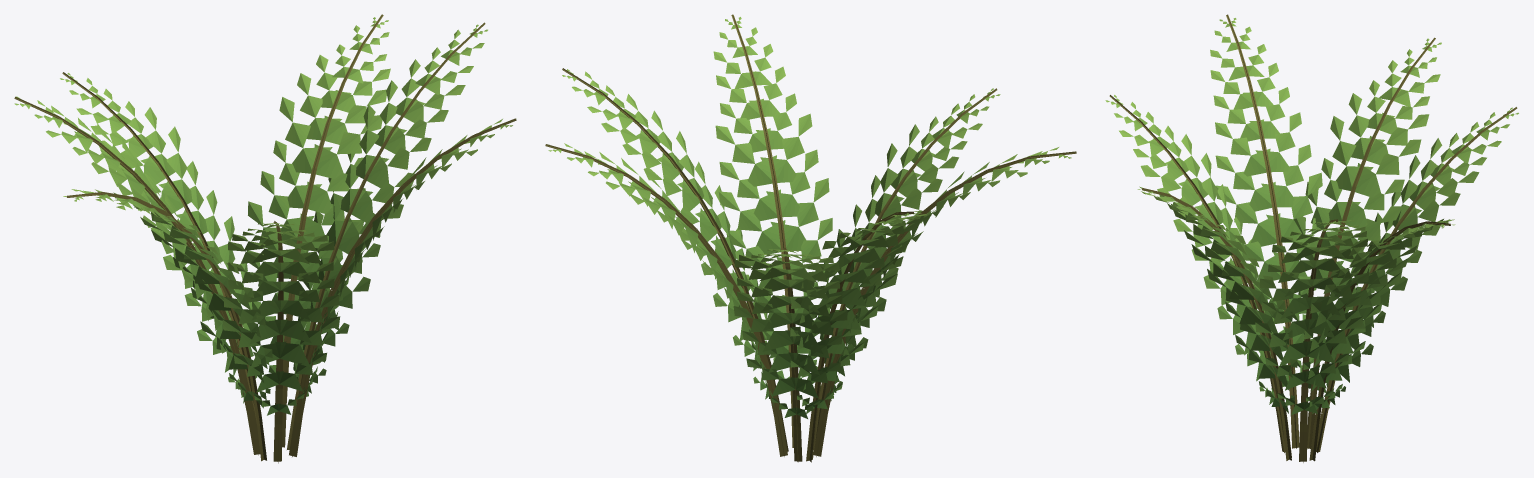
The model's file is fern_lady.glb.
The picture shows the model from 3 angles, left to right: view 1: azimuth 30°, elevation 25°; view 2: azimuth 150°, elevation 25°; view 3: azimuth 270°, elevation 25°; orthographic projection. The views are drawn at different scales.
Parts seen in each view (by area): view 1: fern_lady; view 2: fern_lady; view 3: fern_lady.
Part boxes in pixels (bbox=[...]): fern_lady: bbox=[14, 14, 516, 463]; fern_lady: bbox=[545, 14, 1076, 462]; fern_lady: bbox=[1105, 14, 1518, 462].
Size of the model in its own units: 0.7808 by 0.5663 by 0.6241.
1 material, 1 textured.
